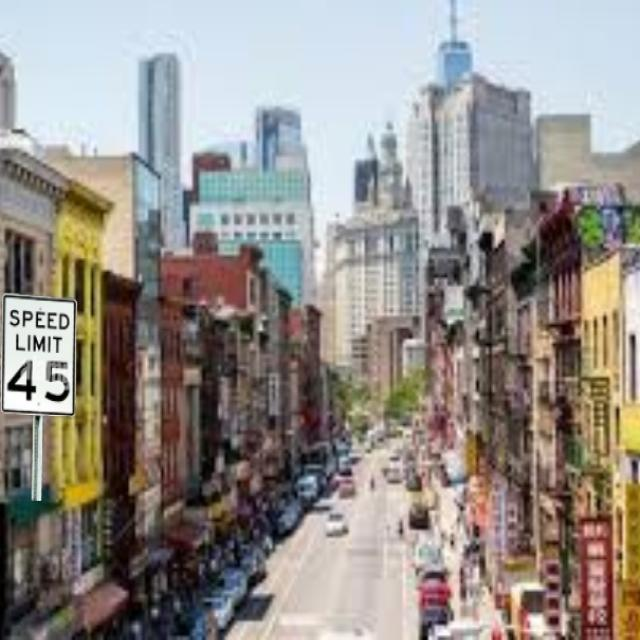speedLimit45: (0, 292, 77, 501)
